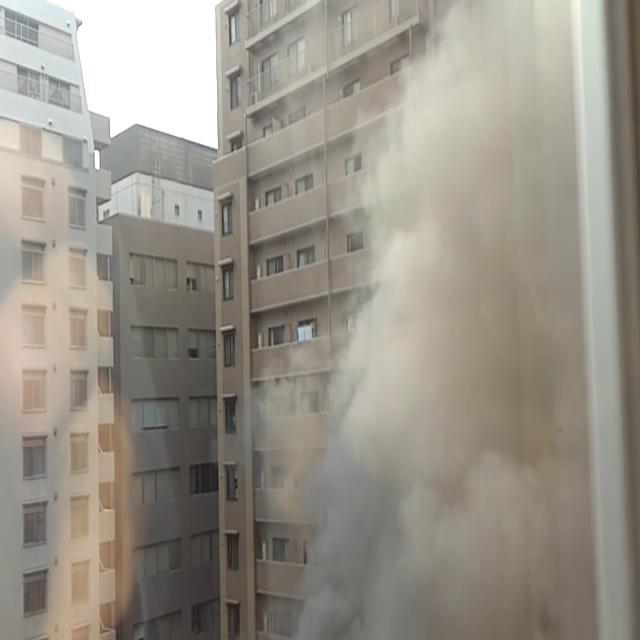Smoke: (262, 1, 580, 640)
